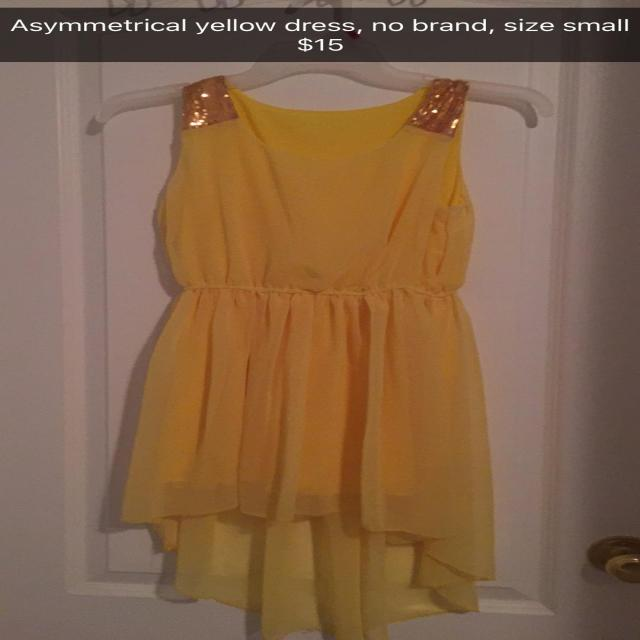Dress: (92, 70, 537, 628)
